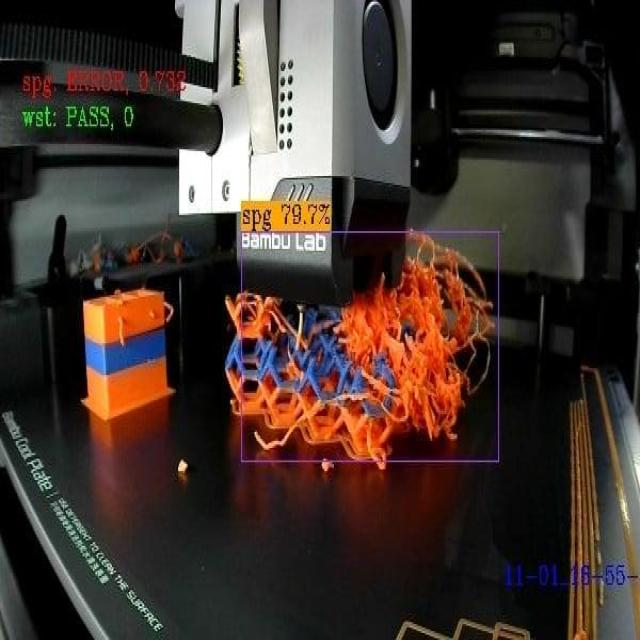Spaghetti: (244, 230, 506, 467)
